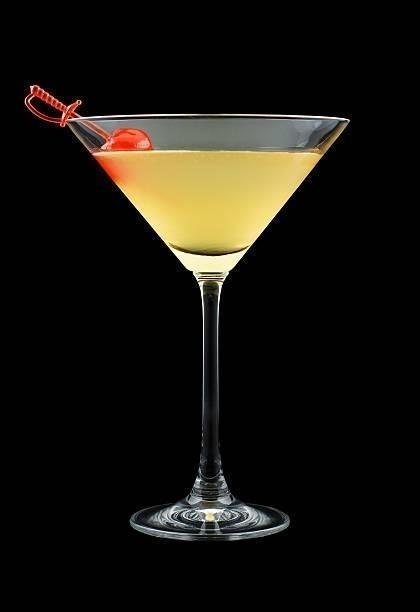glass-wine: (61, 107, 352, 544)
